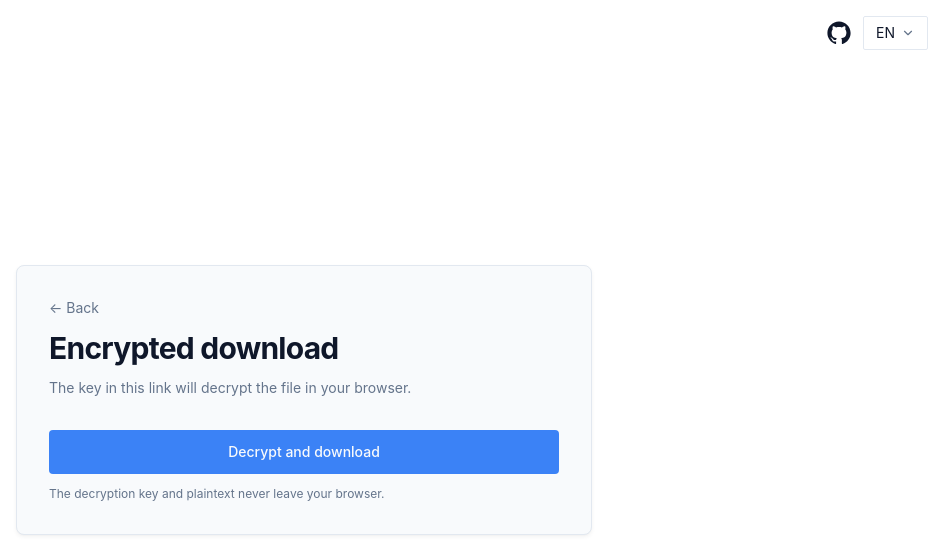
encrypted download page › does not fetch when the fragment key is malformed
The image size is (944, 553).
Click the button "Decrypt and download" at (304, 452), box [49,430,559,474]
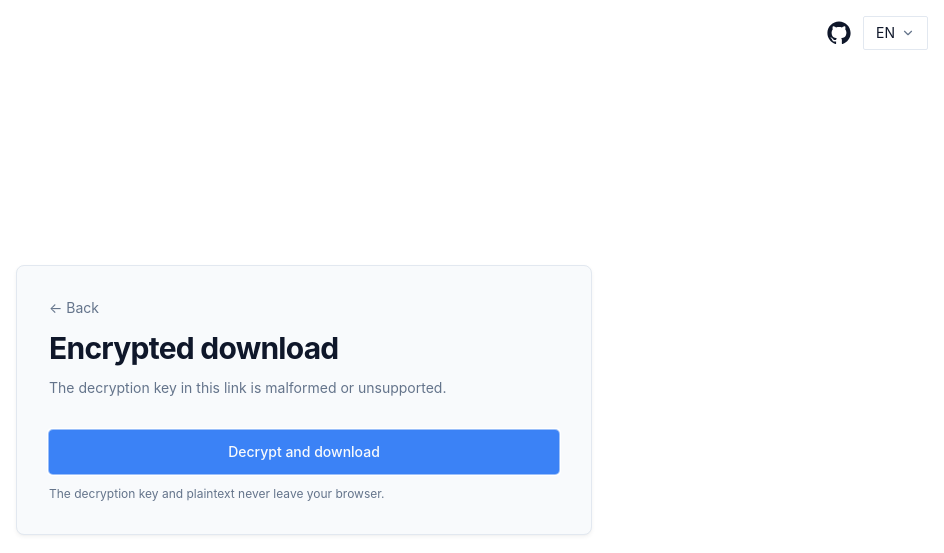
Check: the text "The decryption key in this link is malformed or unsupported." is shown, box [49,379,446,396]
